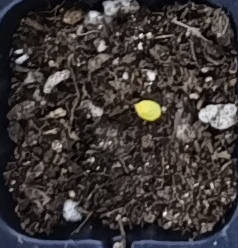pepper seed: (51, 38, 214, 159)
